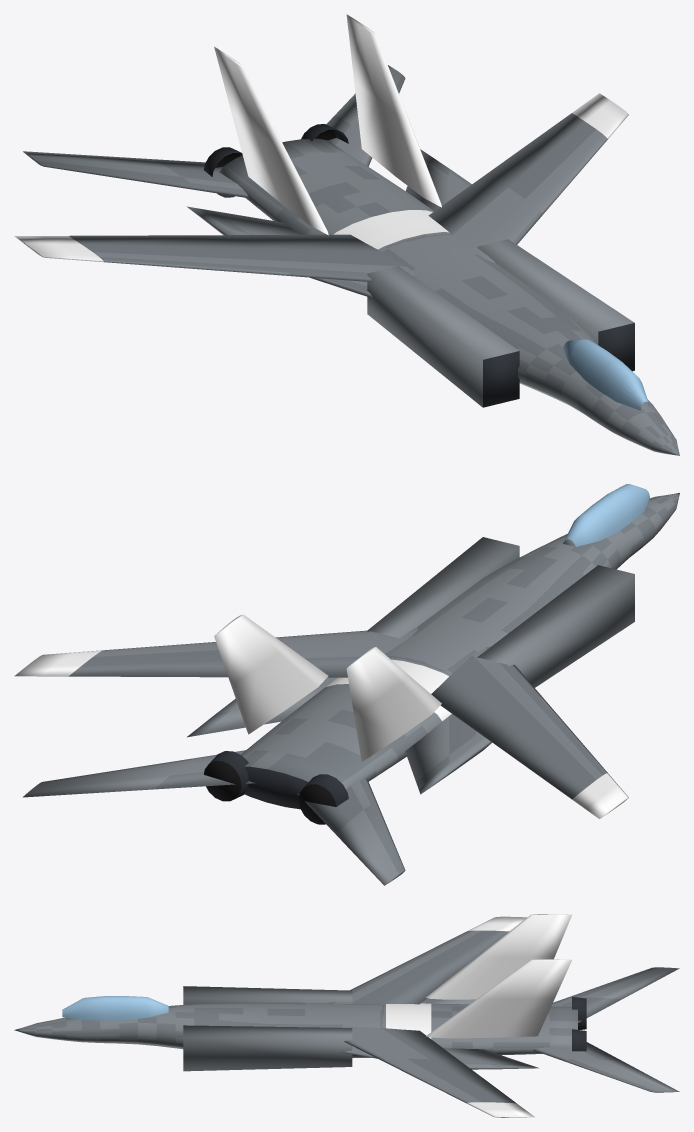
3 views of the same model, one above another, from view 1: azimuth 30°, elevation 25°; view 2: azimuth 150°, elevation 25°; view 3: azimuth 270°, elevation 25° (orthographic). The views are drawn at different scales.
Visible parts, largest first — view 1: body; view 2: body; view 3: body.
Part boxes in pixels (box(x1,y1,x2,y2)): body: box(14, 14, 679, 455); body: box(14, 484, 679, 885); body: box(14, 914, 679, 1117).
Bounding box in the file's own units: 16 × 4.15 × 22.56.
